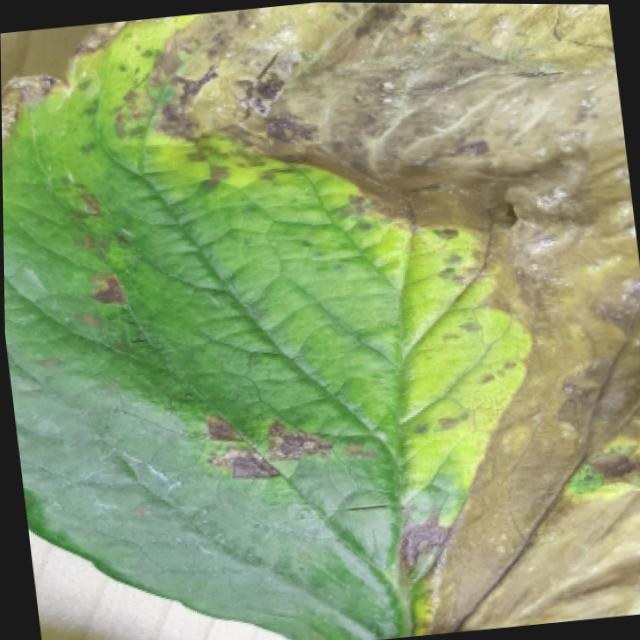Angular Leafspot: (1, 2, 640, 640)
